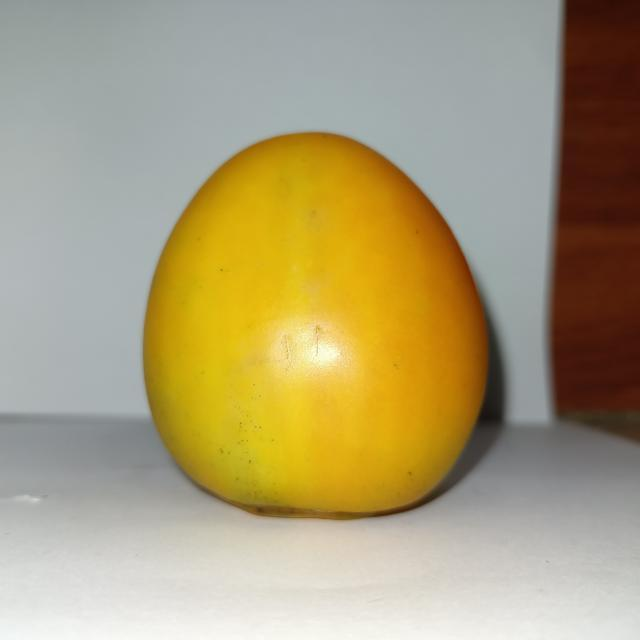Red: (141, 129, 491, 520)
